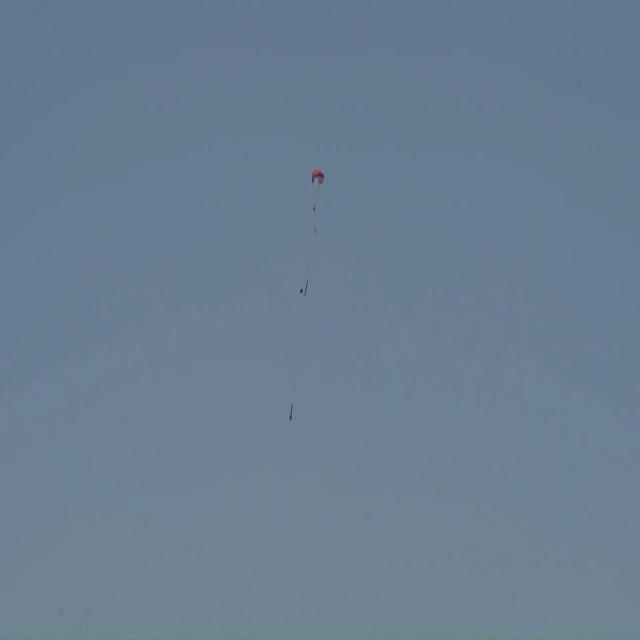Rocket: (290, 404, 293, 421)
